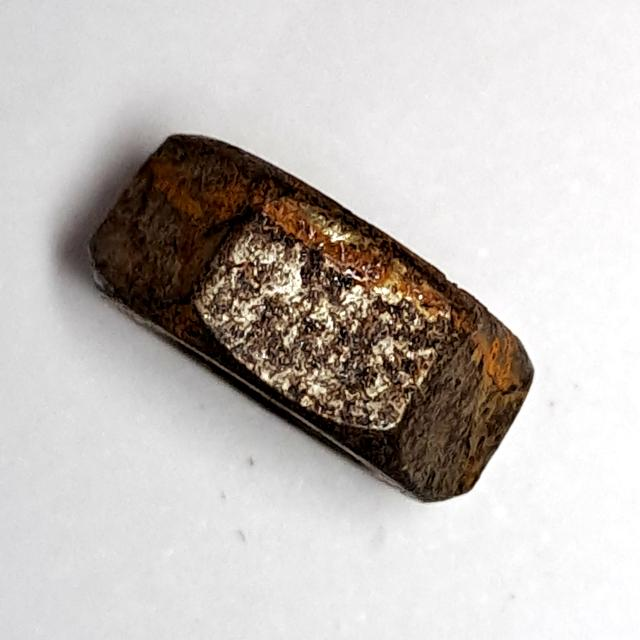Side_Rust: (72, 126, 549, 519)
